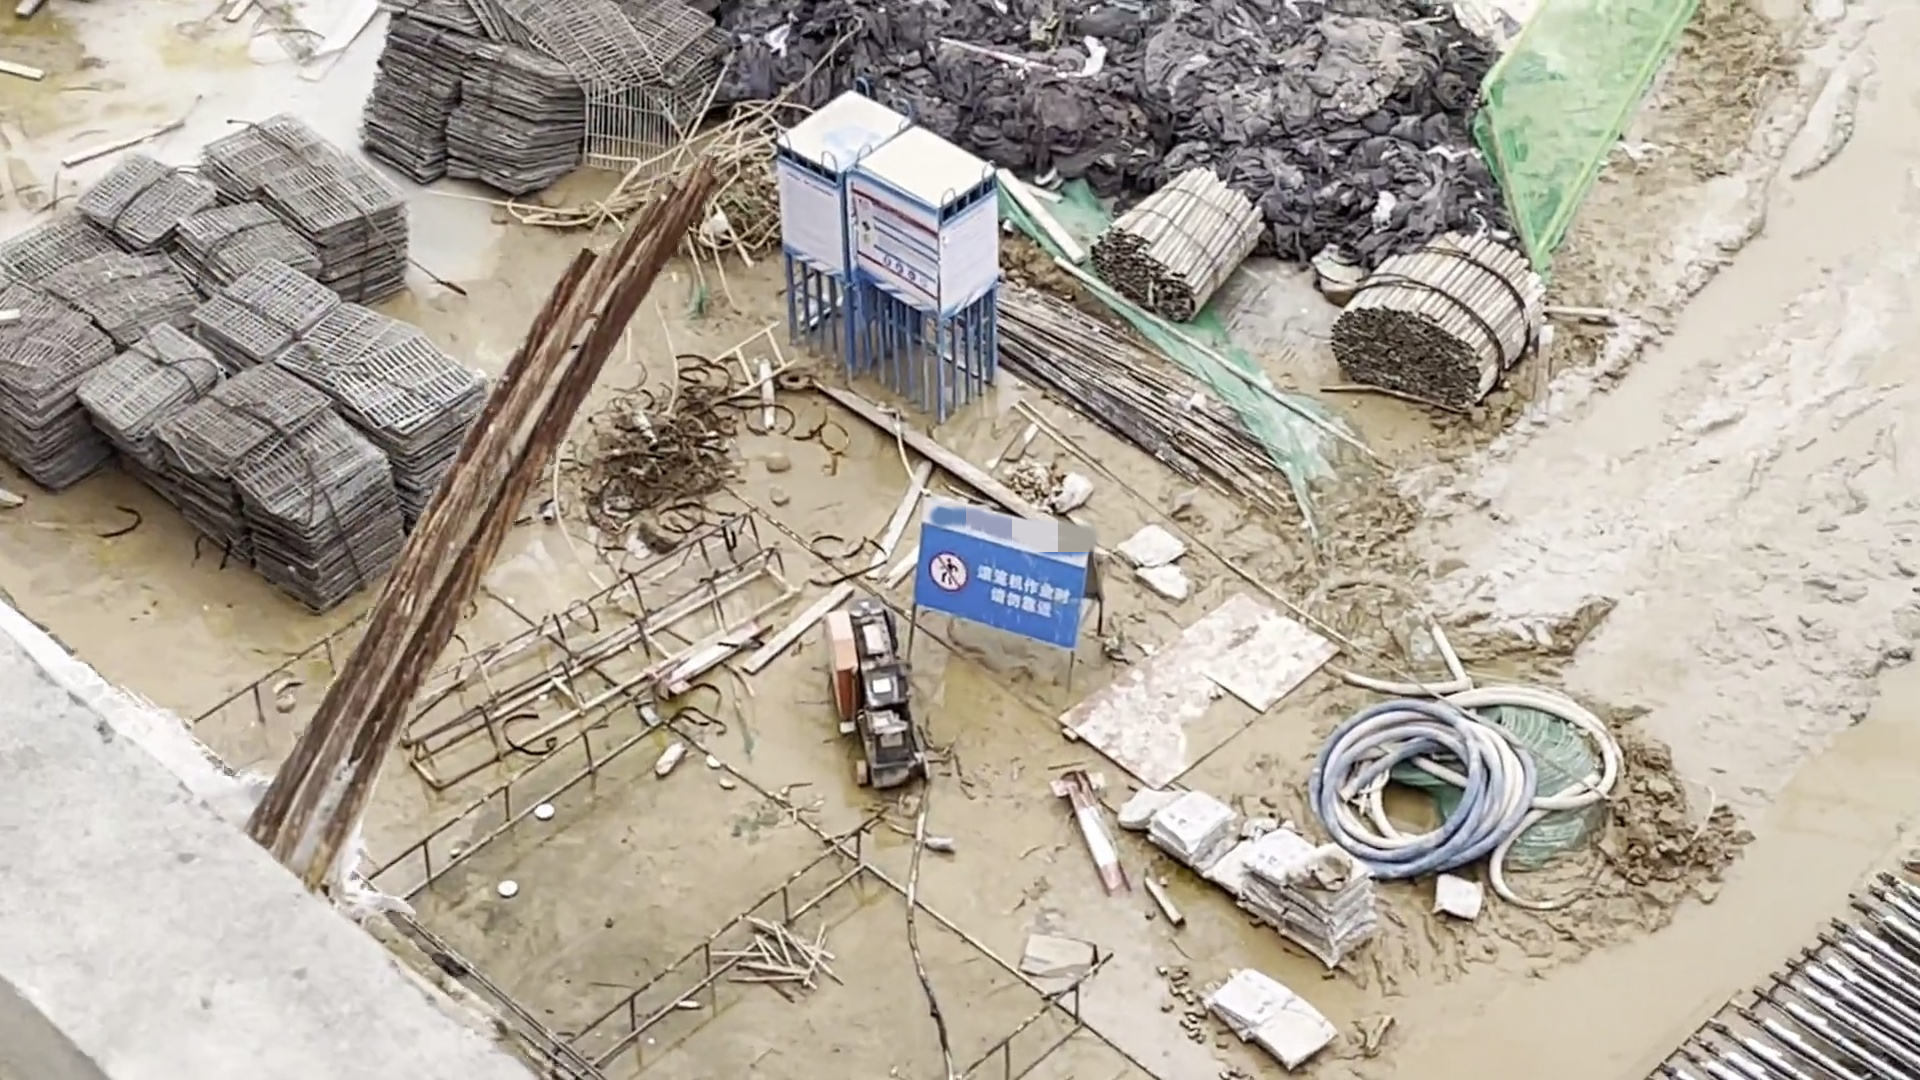slogan: (918, 531, 1071, 645)
wood: (1331, 229, 1543, 400), (1096, 164, 1265, 319)
